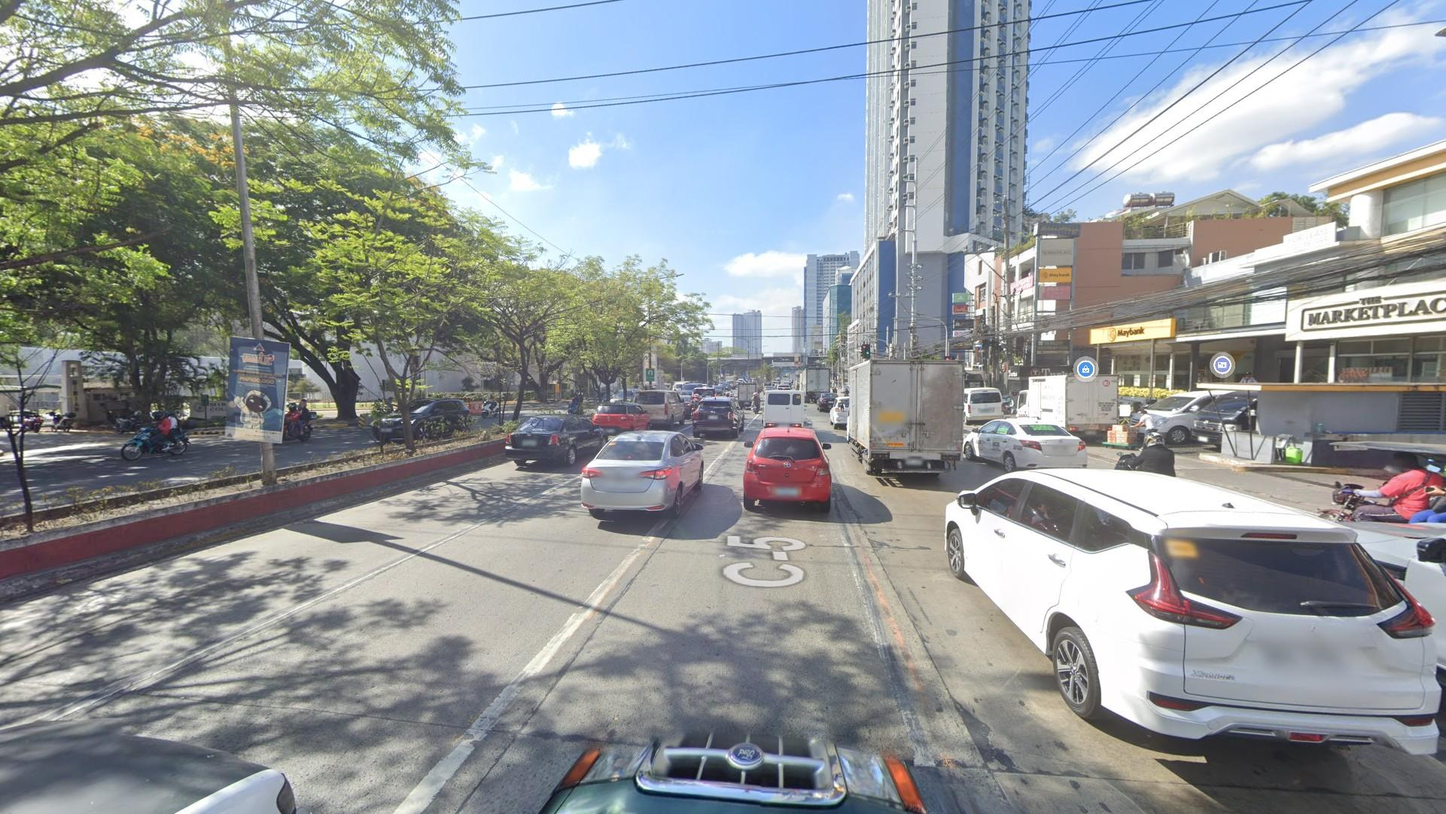pedestrian: (1130, 410, 1158, 455)
